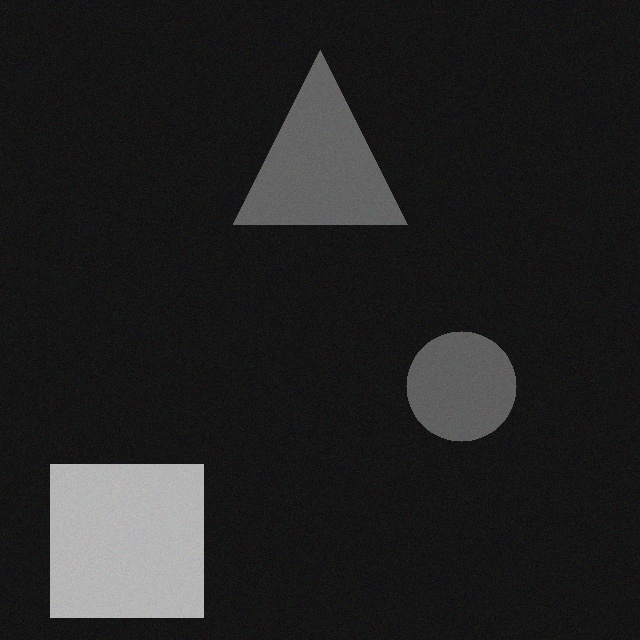circle: (411, 336, 521, 446)
square: (55, 469, 208, 622)
triangle: (238, 55, 412, 229)
